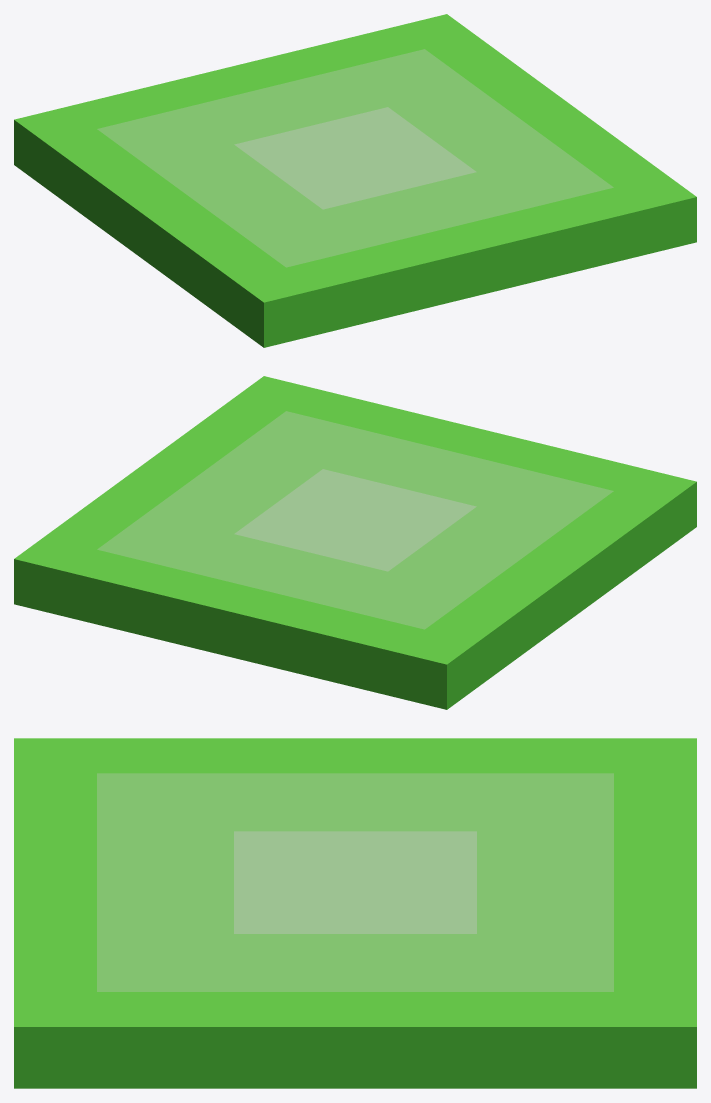
The model's file is TileGreen.fbx.
3 renders of one model, top to bottom at view 1: azimuth 30°, elevation 25°; view 2: azimuth 150°, elevation 25°; view 3: azimuth 270°, elevation 25°, orthographic. The views are drawn at different scales.
Visible parts, largest first — view 1: Cube; view 2: Cube; view 3: Cube.
Boxes of the visible parts, x1,y1,x2,y2 form: Cube: (14,14,696,347); Cube: (14,376,696,709); Cube: (14,738,696,1088).
Bounding box in the file's own units: 100 × 10 × 100.
